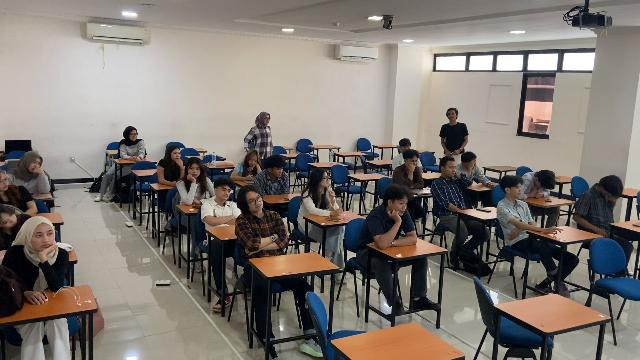bosan: (34, 227, 54, 250), (394, 197, 409, 216), (248, 194, 263, 211), (0, 213, 17, 227), (29, 157, 42, 174), (220, 184, 230, 200), (511, 183, 522, 197), (447, 162, 457, 177), (189, 165, 201, 177), (172, 149, 181, 161), (409, 156, 418, 168), (323, 172, 330, 187), (275, 166, 282, 178), (249, 156, 257, 166)
